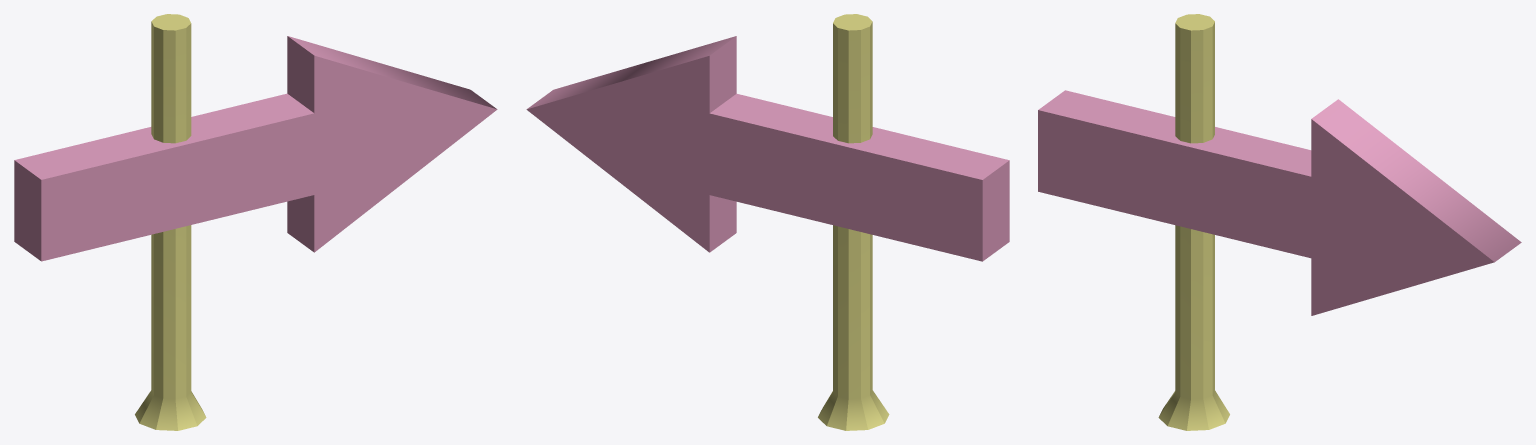
File: flechedirection.fbx
The picture shows the model from 3 angles, left to right: view 1: azimuth 30°, elevation 25°; view 2: azimuth 150°, elevation 25°; view 3: azimuth 330°, elevation 25°; orthographic projection.
Parts seen in each view (by area): view 1: fleche, poteau; view 2: fleche, poteau; view 3: fleche, poteau.
Boxes of the visible parts, x1,y1,x2,y2 form: fleche: [14, 36, 497, 261]; poteau: [135, 14, 206, 430]; fleche: [526, 36, 1009, 261]; poteau: [818, 14, 889, 430]; fleche: [1038, 90, 1521, 315]; poteau: [1158, 14, 1229, 430].
Bounding box in the file's own units: 267 × 220 × 34.74.
